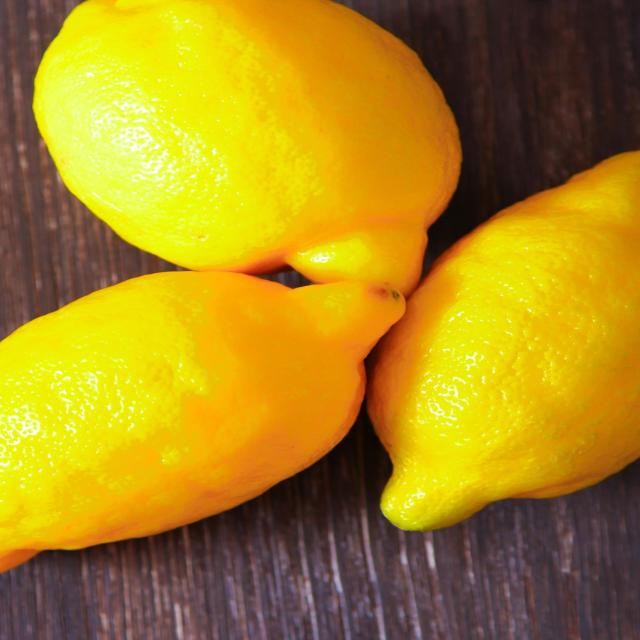lemon: (25, 0, 473, 341)
